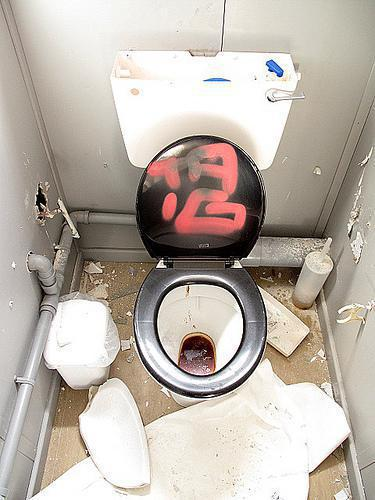Bote de Basura: (48, 297, 117, 392)
Sanitario: (118, 57, 294, 407)
